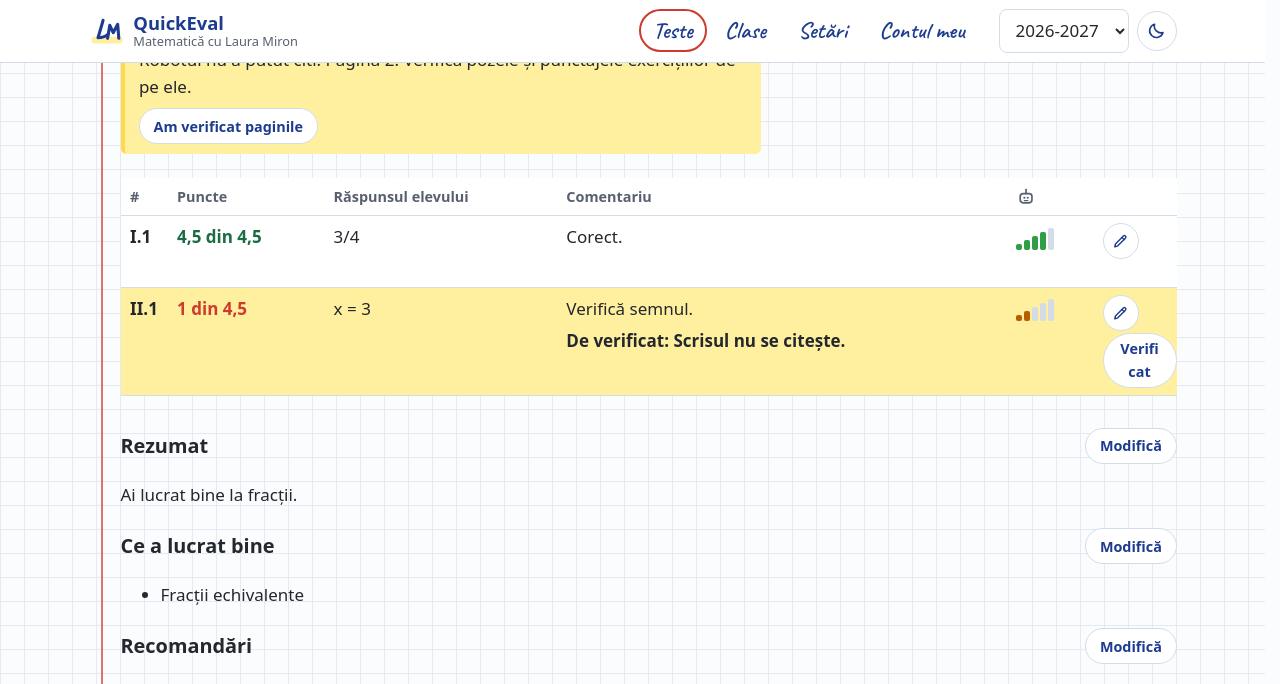
Test case: SubmissionPage › shows the server message when a correction fails
The image size is (1280, 684).
(page scrolled)
Click the button with aria-label "Verificat Subiectul II, ex. 1" at (1140, 360), box [1103,333,1176,388]
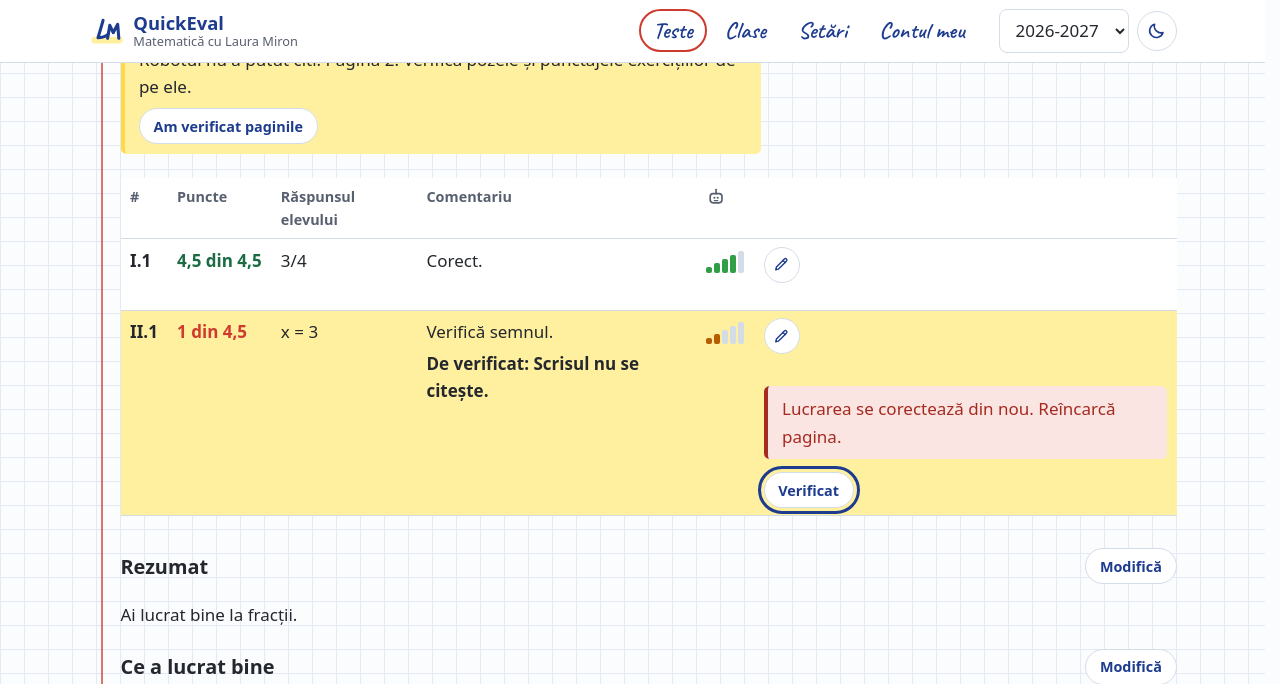
Result: the message reads "Lucrarea se corectează din nou. Reîncarcă pagina." at [782,398,1115,448]
